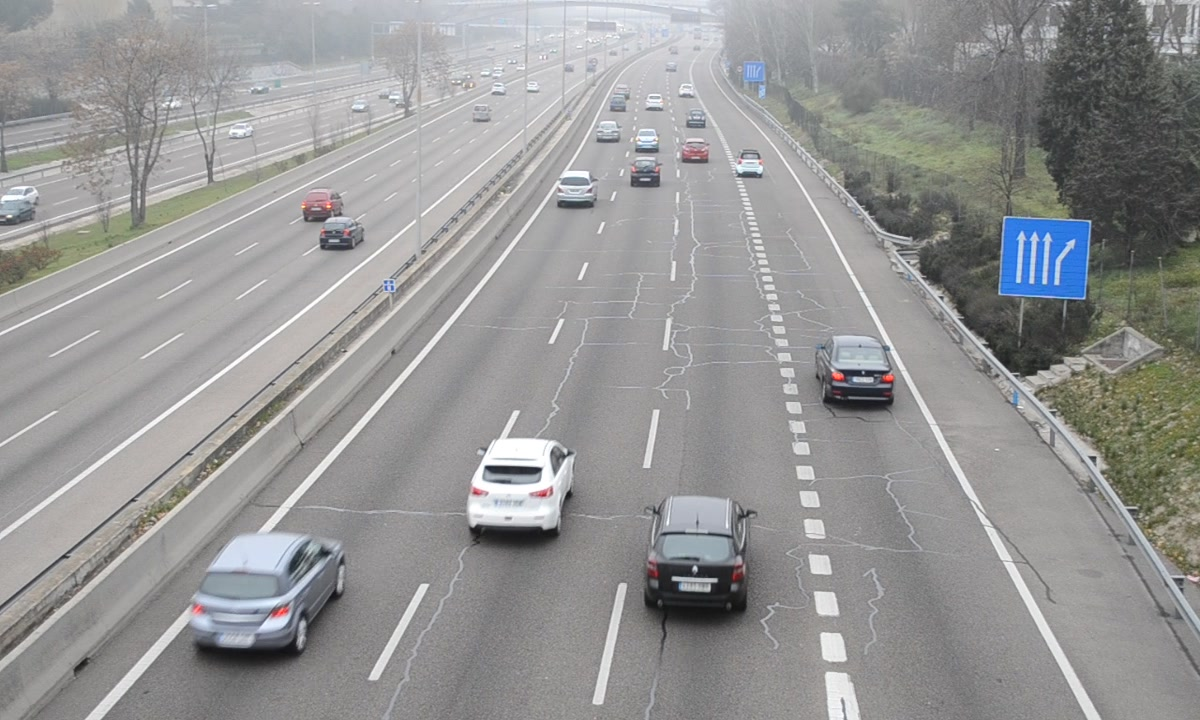car: (187, 534, 345, 656), (641, 494, 748, 612), (469, 438, 575, 536), (816, 335, 898, 411), (556, 171, 598, 208), (631, 155, 662, 188), (736, 148, 765, 178), (682, 139, 710, 164), (595, 120, 622, 145), (635, 128, 660, 154)
